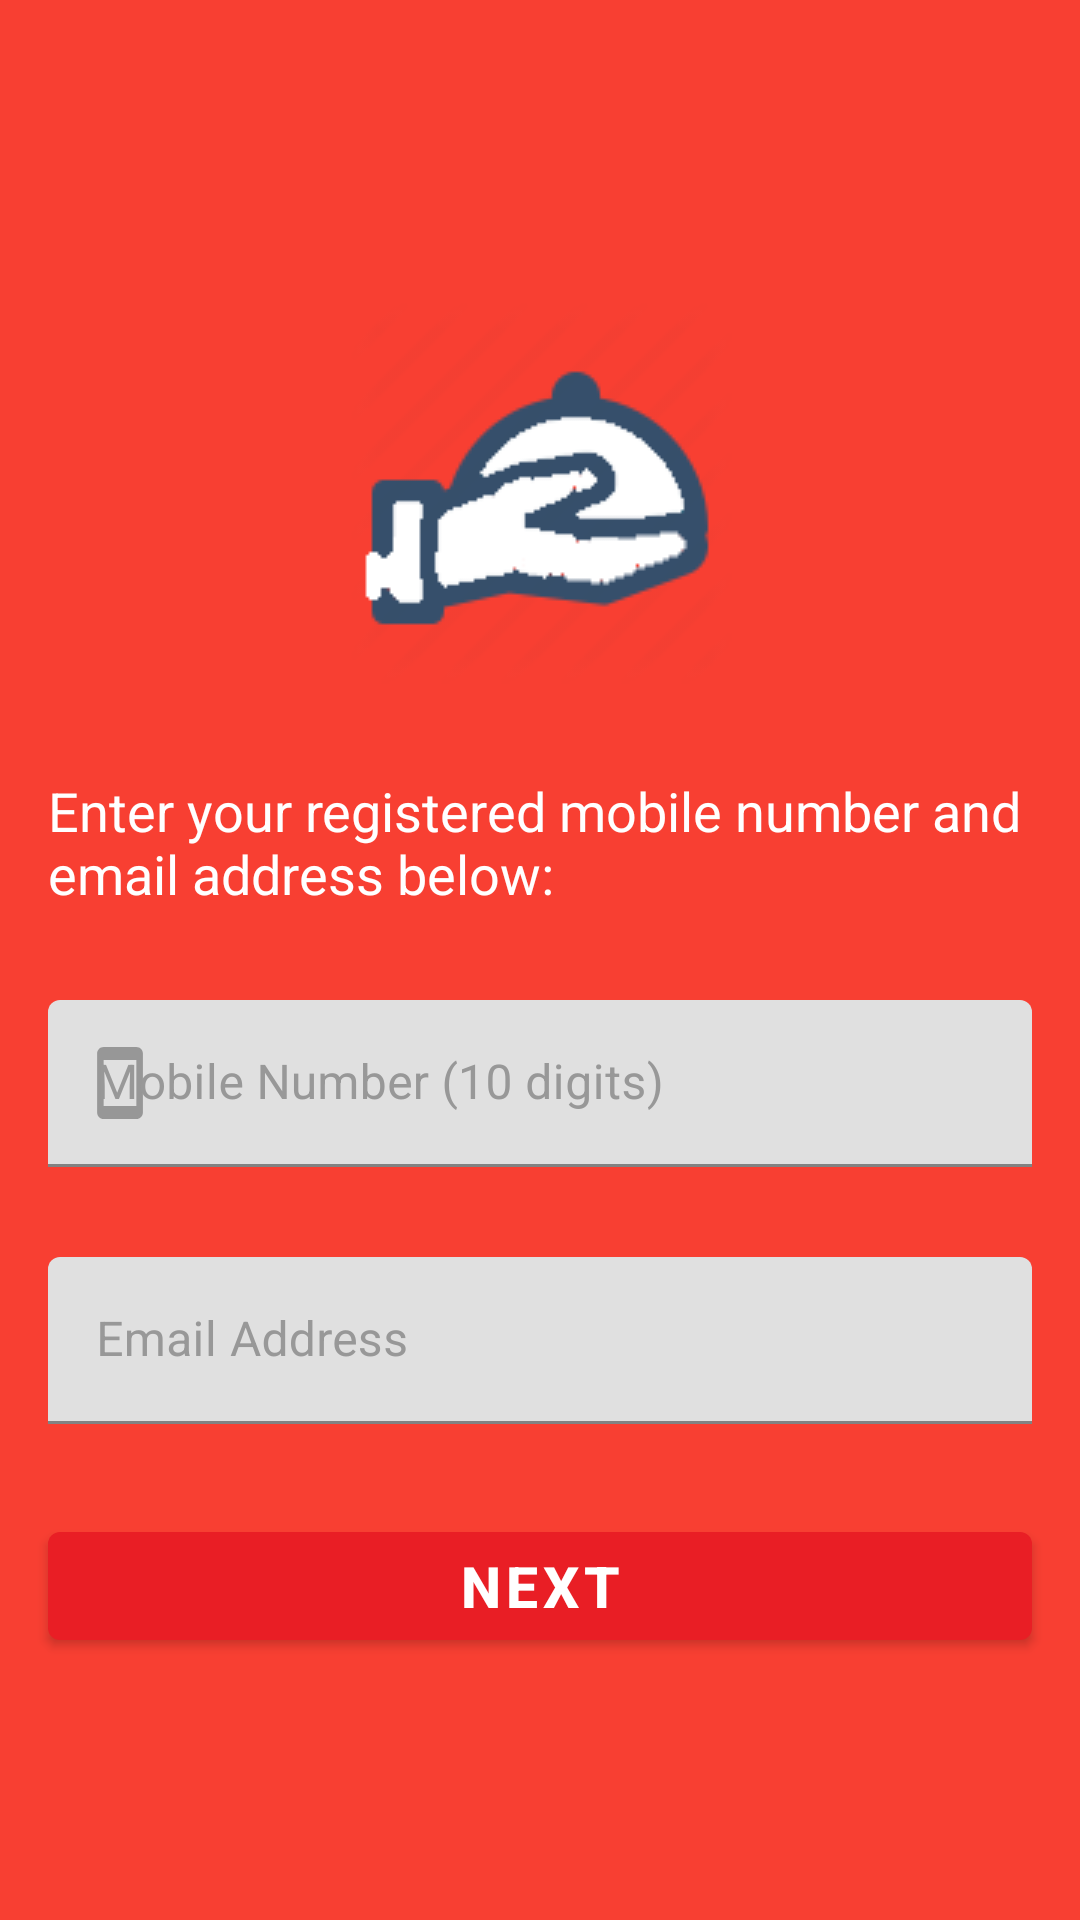

Screen size 1080px x 1920px. Icon name, then its box in pixels as (x1, y1, x2, y2):
foodapp: (365, 371, 709, 625)
